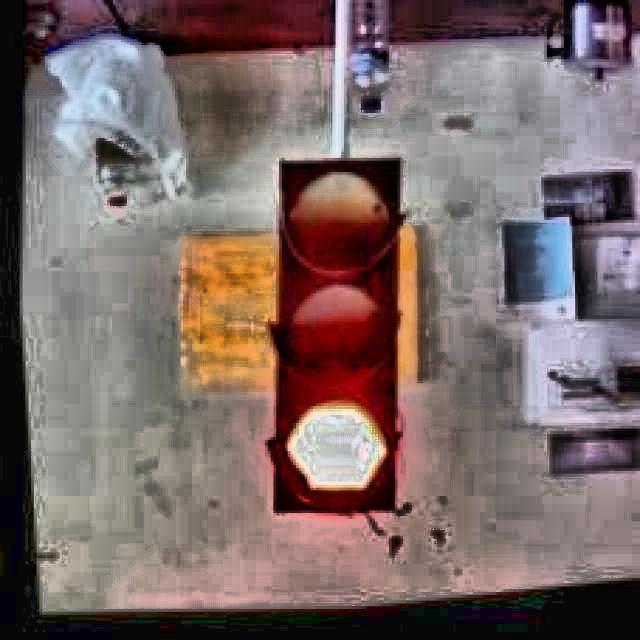red: (271, 156, 401, 522)
